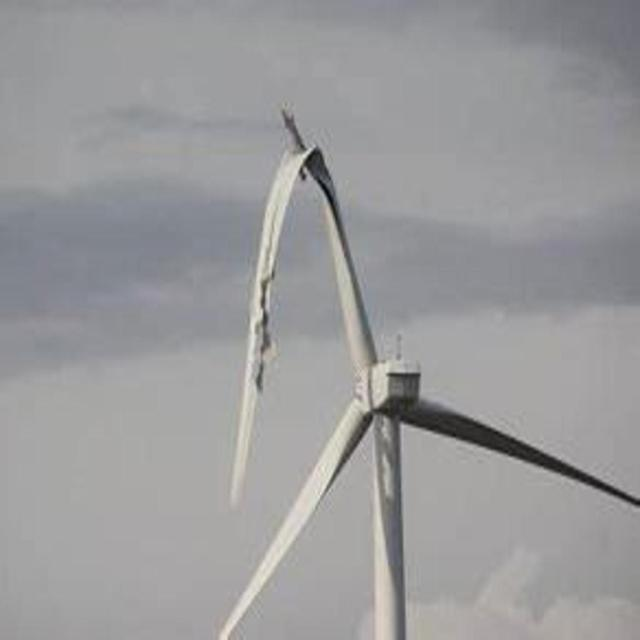crack: (226, 106, 349, 500)
